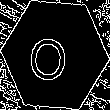O_N: (34, 28, 76, 82)
